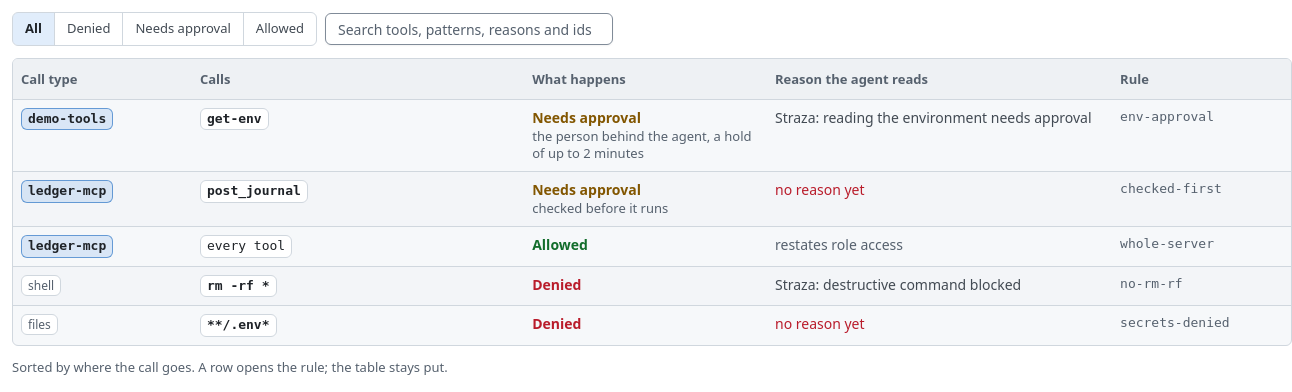
Test: the rules table › says so when nothing matches the search
Type "nothing-here" into the field labelled "Search tools, patterns, reasons and ids" at (469, 29), box [325,13,613,45]
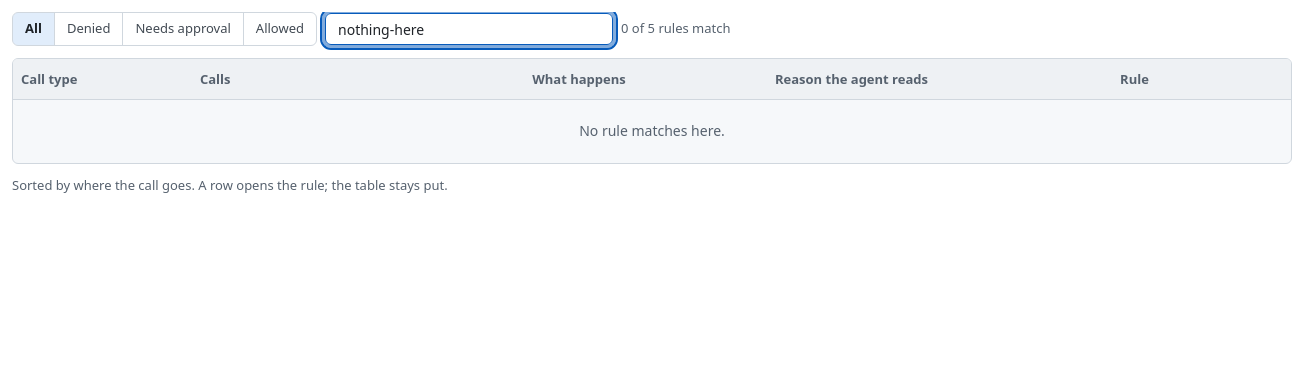
Expected: the text "No rule matches here." is shown, [13,99,1291,163]
